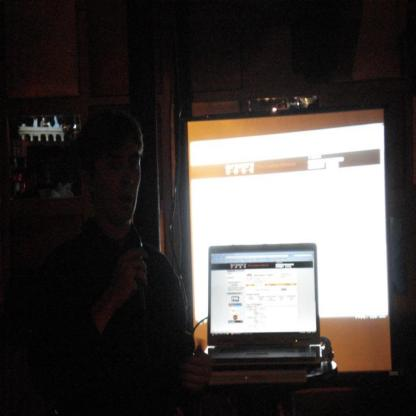board: (204, 246, 320, 363)
